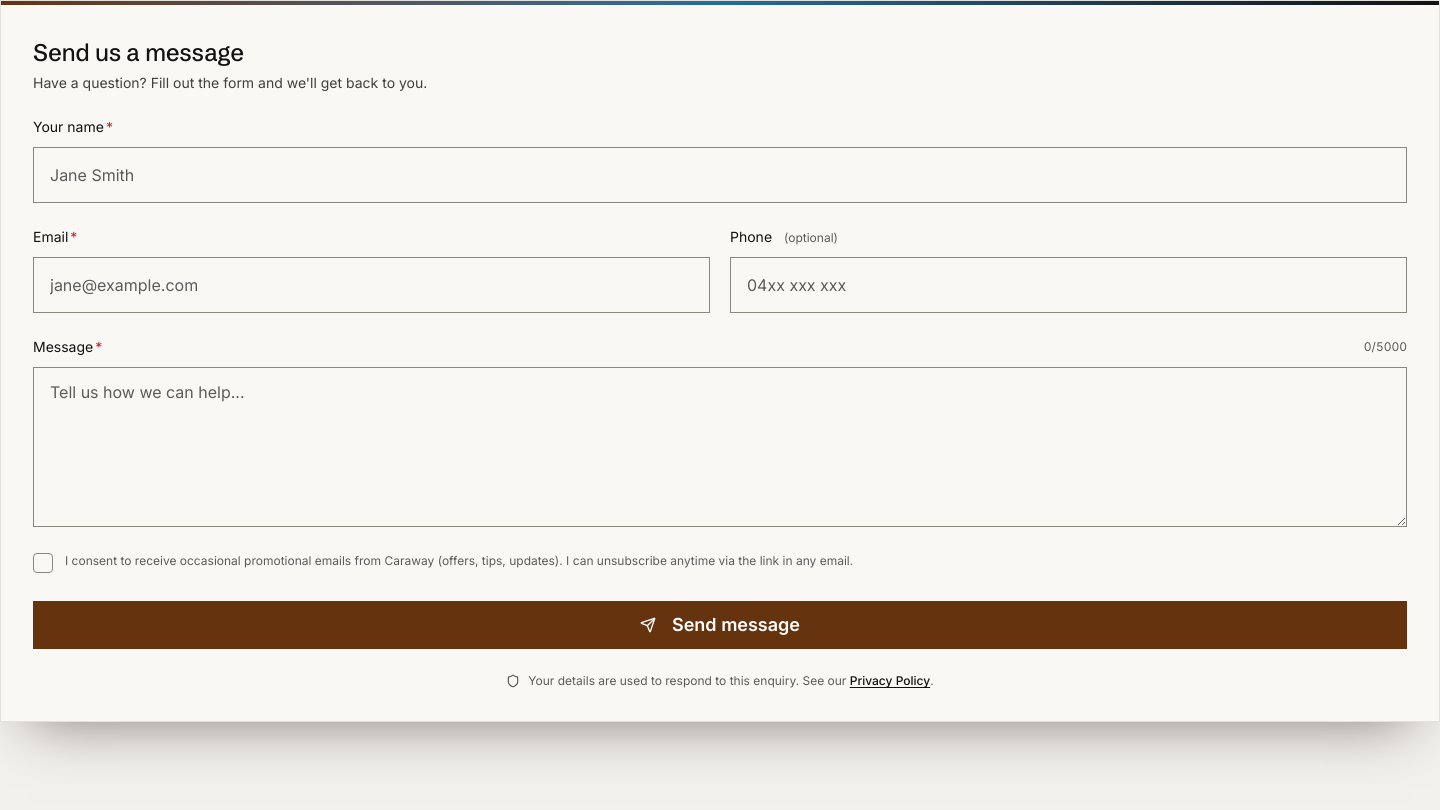
Test: ContactForm › shows an inline error and does not submit when required fields are empty
Click the button "Send message": (720, 625) left=33, top=601, right=1407, bottom=649
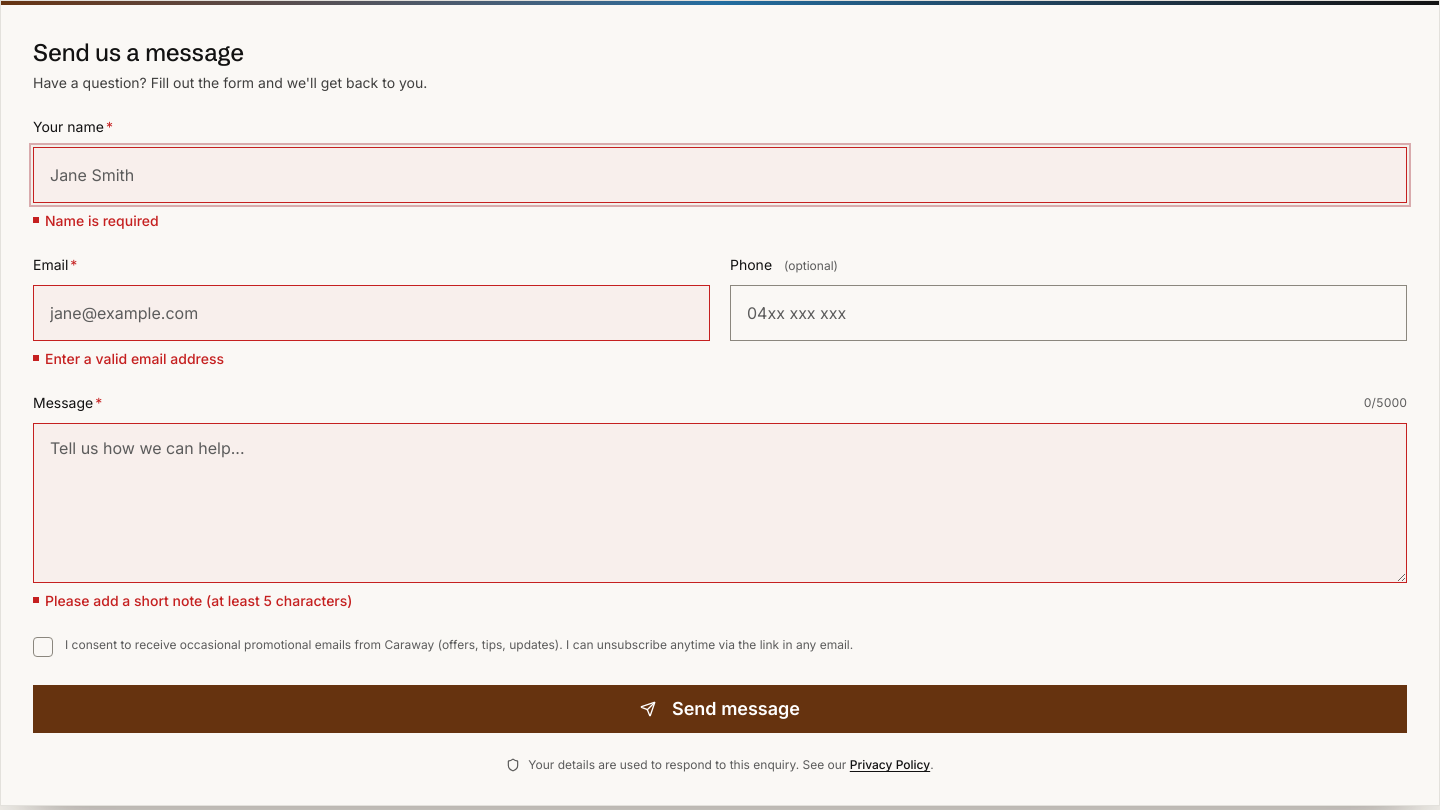
expect the message "Name is required" is shown: met, box left=33, top=212, right=159, bottom=229
